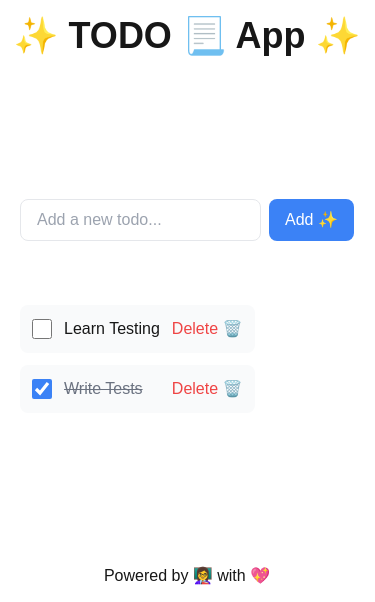
Scenario: Todo Application › should delete an existing todo item
The width and height of the screenshot is (375, 602).
Expected: the text "Write Tests" is shown, [64,380,142,397]
Click the button "Delete 🗑️" next to "Write Tests": [207, 389] box [172,377,242,401]
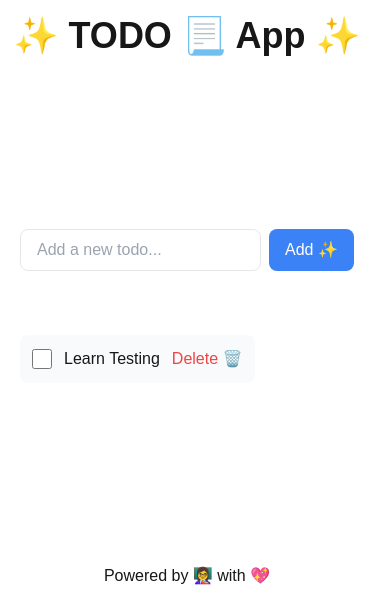
Expected: the text "Write Tests" is gone
